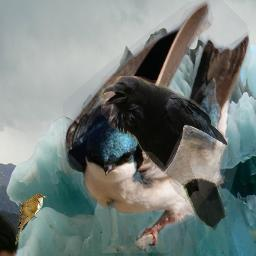Crow: (101, 76, 228, 231)
Cuckoo: (15, 193, 47, 246)
Swallow: (63, 0, 252, 253)
